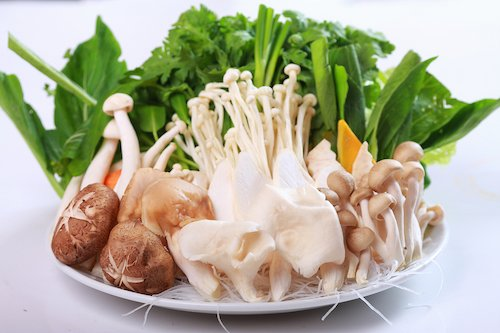sushi: (24, 7, 493, 313)
